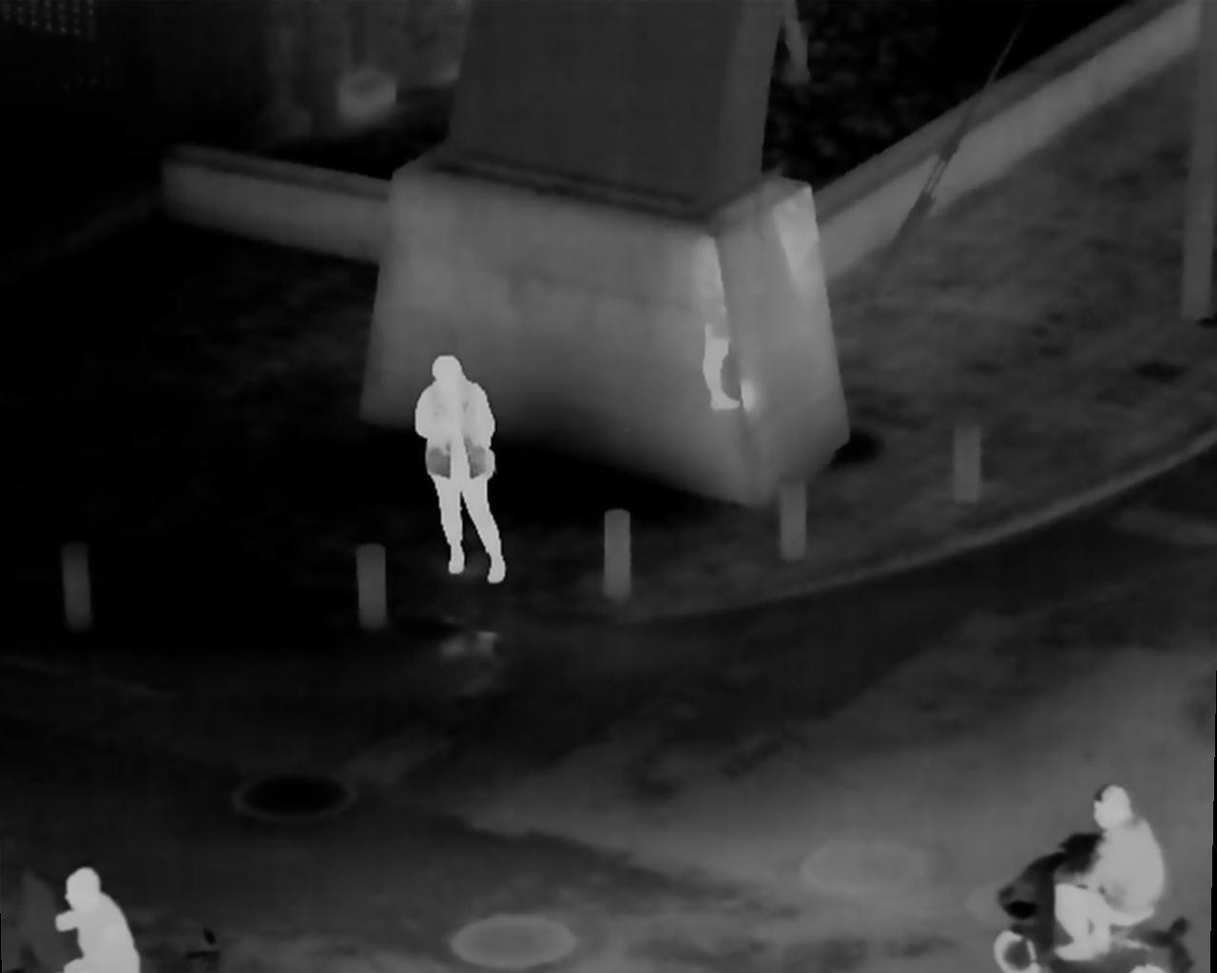person: (1047, 788, 1178, 962), (413, 353, 512, 583), (48, 866, 152, 973)
